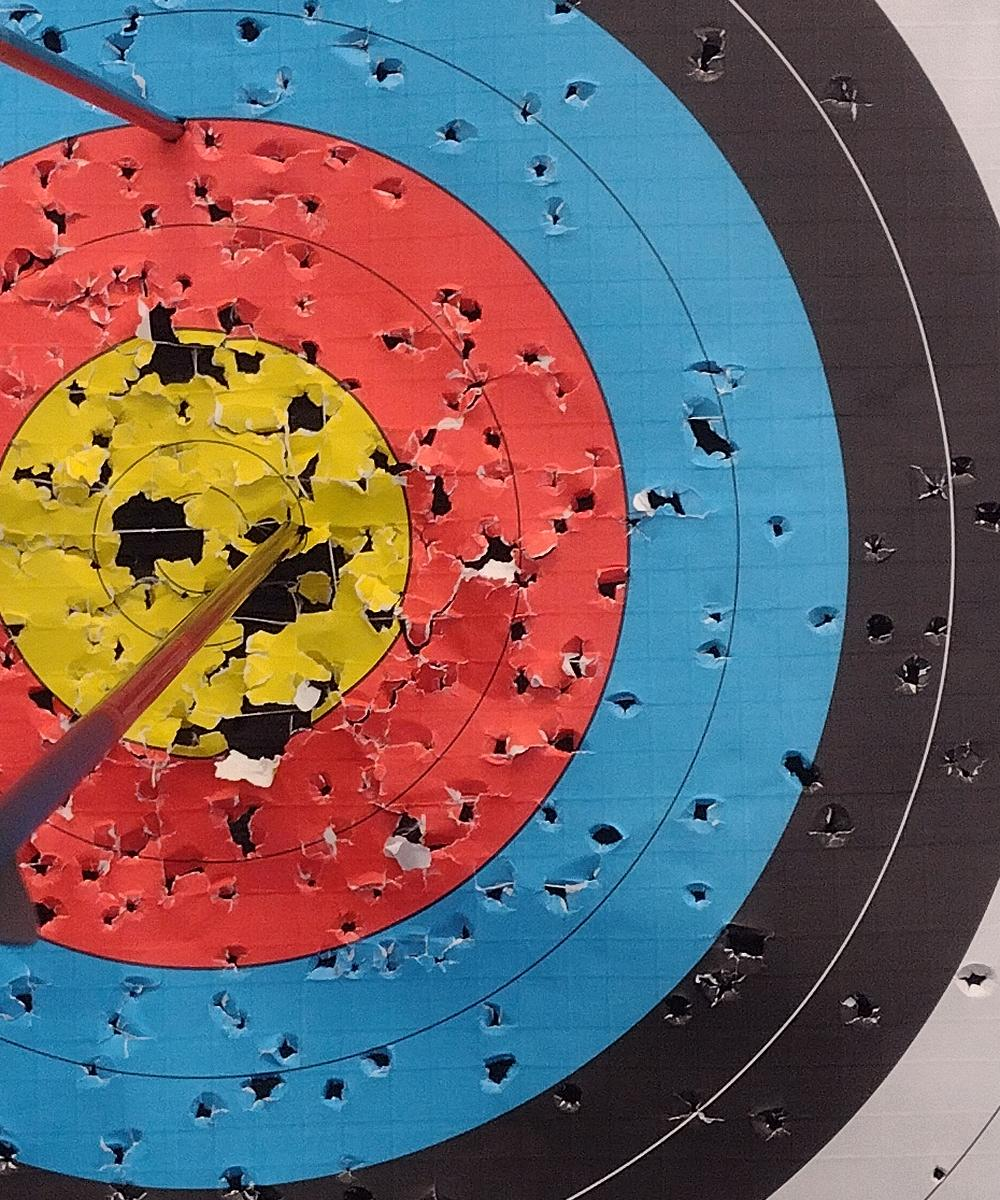10-Ring: (90, 438, 310, 649)
6-Ring: (0, 10, 740, 1081)
7-Ring: (0, 118, 630, 970)
8-Ring: (0, 223, 520, 860)
9-Ring: (0, 335, 412, 757)
Arrow: (0, 473, 302, 960)
